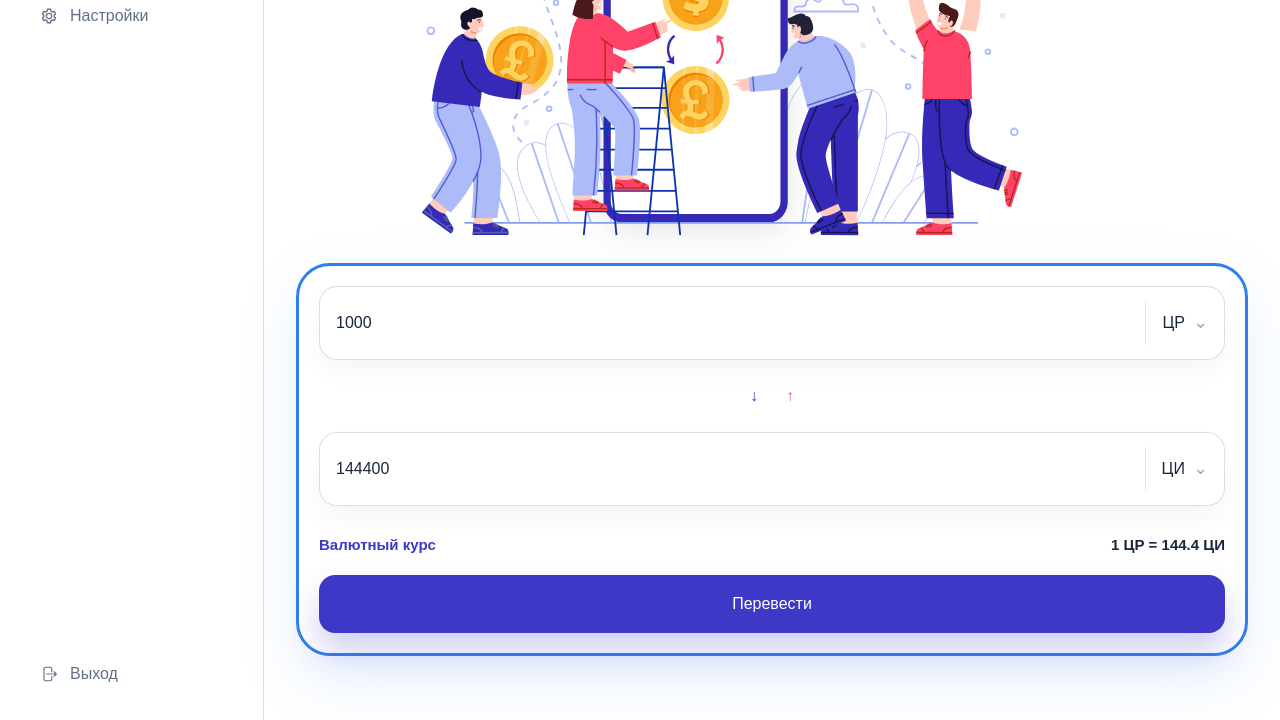
CurrencyExchangePage › recalculates the destination amount while keeping the selected country context
(page scrolled)
Replace the text in the field named "Сумма списания в ЦР" with "5" at {"x": 733, "y": 323}, box x1=336 y1=311 x2=1129 y2=335
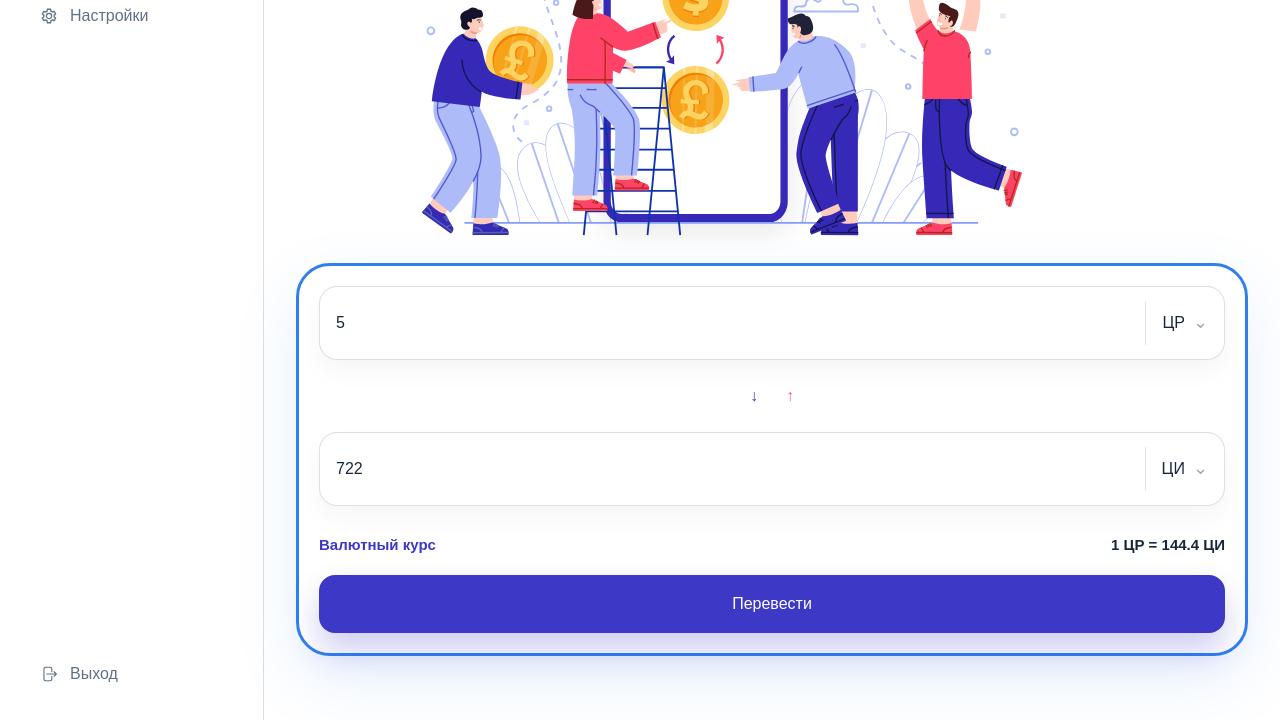
expect the text "1 ЦР = 144.4 ЦИ" is shown: met, box x1=1111 y1=534 x2=1225 y2=555
expect the field showing "722" is shown: met, box x1=336 y1=457 x2=1129 y2=481
